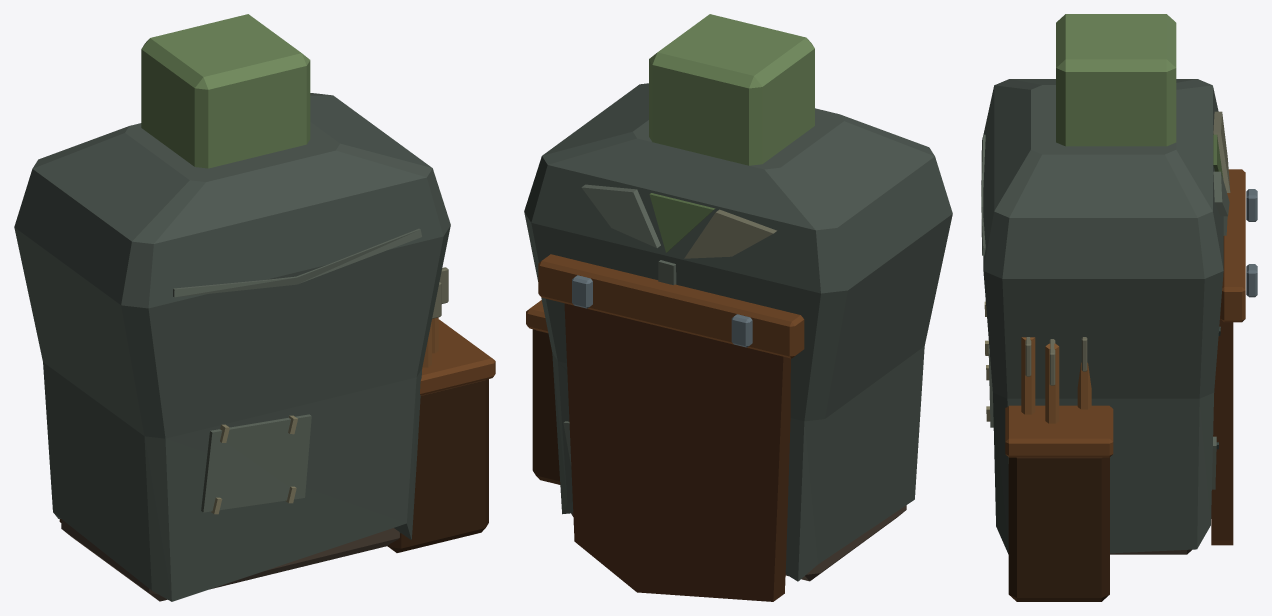
The model's file is Body.glb.
The picture shows the model from 3 angles, left to right: view 1: azimuth 30°, elevation 25°; view 2: azimuth 150°, elevation 25°; view 3: azimuth 270°, elevation 25°; orthographic projection. The views are drawn at different scales.
Parts seen in each view (by area): view 1: Sculpture; view 2: Sculpture; view 3: Sculpture.
Boxes of the visible parts, x1,y1,x2,y2 form: Sculpture: [14, 14, 495, 601]; Sculpture: [524, 14, 952, 601]; Sculpture: [981, 14, 1257, 601].
Bounding box in the file's own units: 0.6535 × 0.86 × 0.4375.
